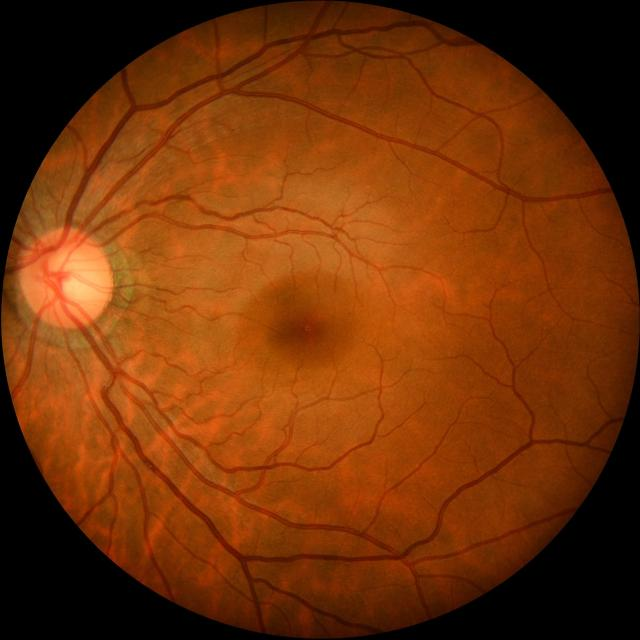OC: (51, 256, 93, 300)
OD: (19, 226, 110, 326)
